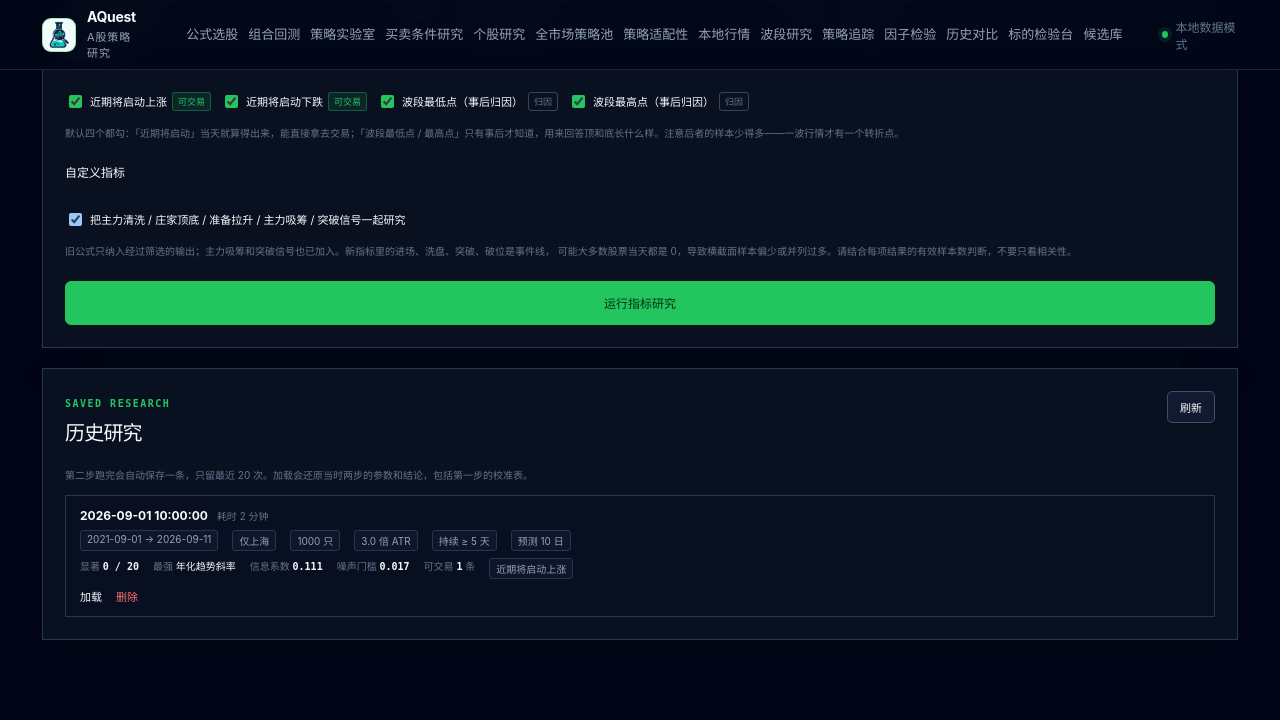
SwingResearchPage › deletes a saved study and says so
The width and height of the screenshot is (1280, 720).
(page scrolled)
Click the button with test id "swing-history-remove-hist-0". click: point(127, 596)
box: [116,588,138,604]
(page scrolled)
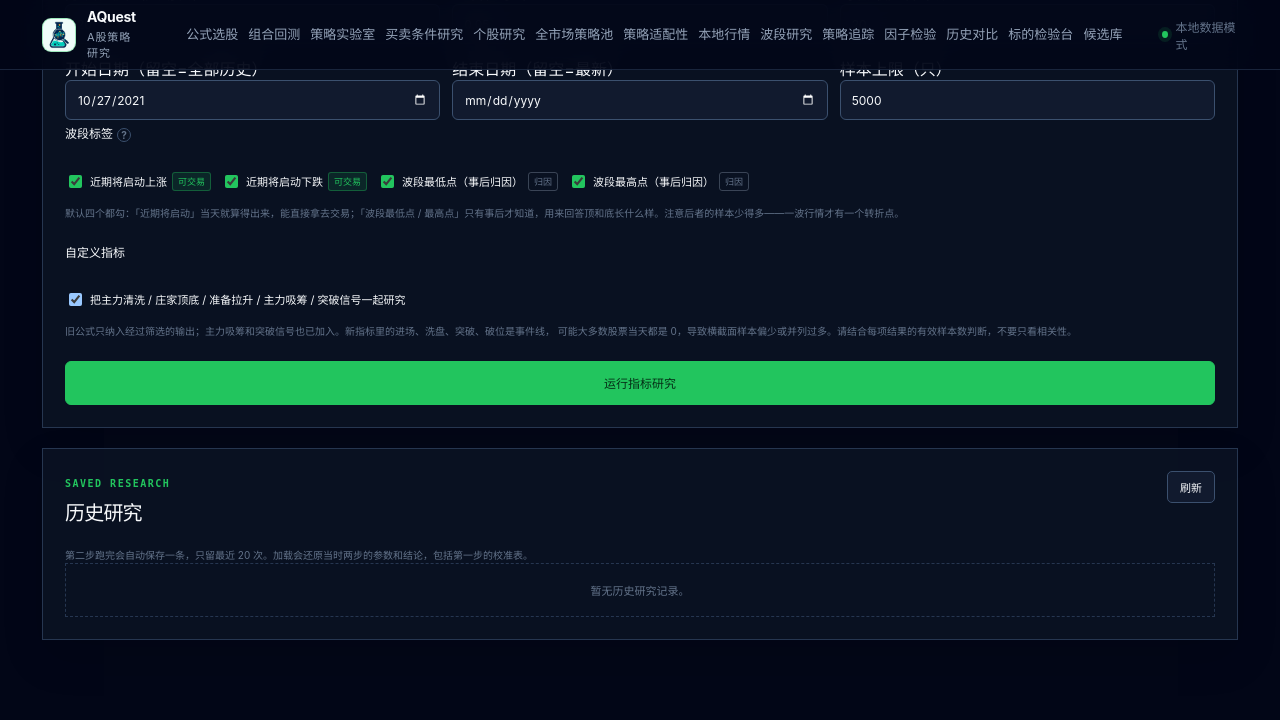
Expected: the element with test id "swing-research-history" shows "暂无历史研究记录", [590,584,690,598]
